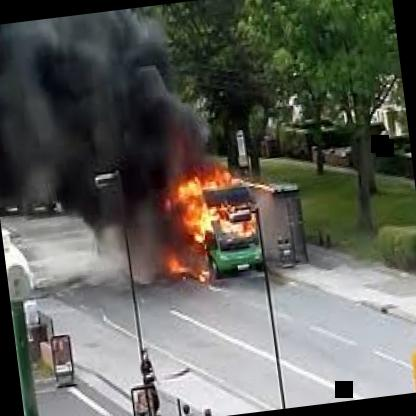fire: (0, 41, 173, 169), (163, 150, 275, 282)
